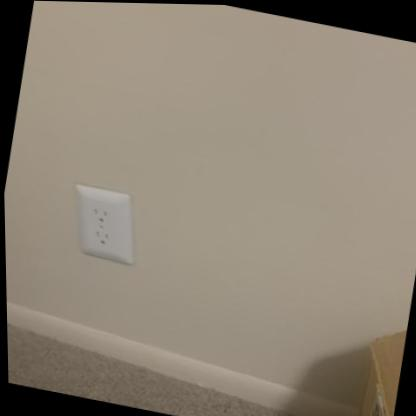OUTLET: (61, 182, 143, 265)
